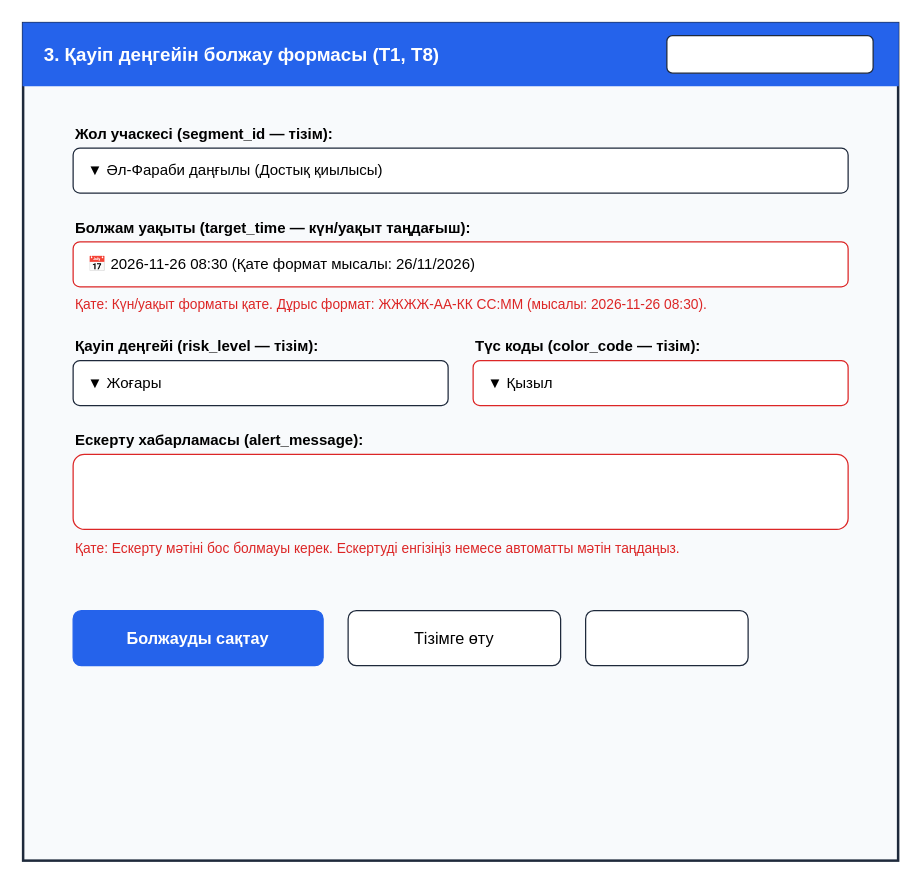
The diagram is 920 pixels wide and 883 high, and some of its shapes have lost their labels. Here are the shapes that lost their labels. From the top down, the centre of each, then its label:
At point (769, 53): "← Басты бетке қайту".
At point (666, 637): "Артқа".
